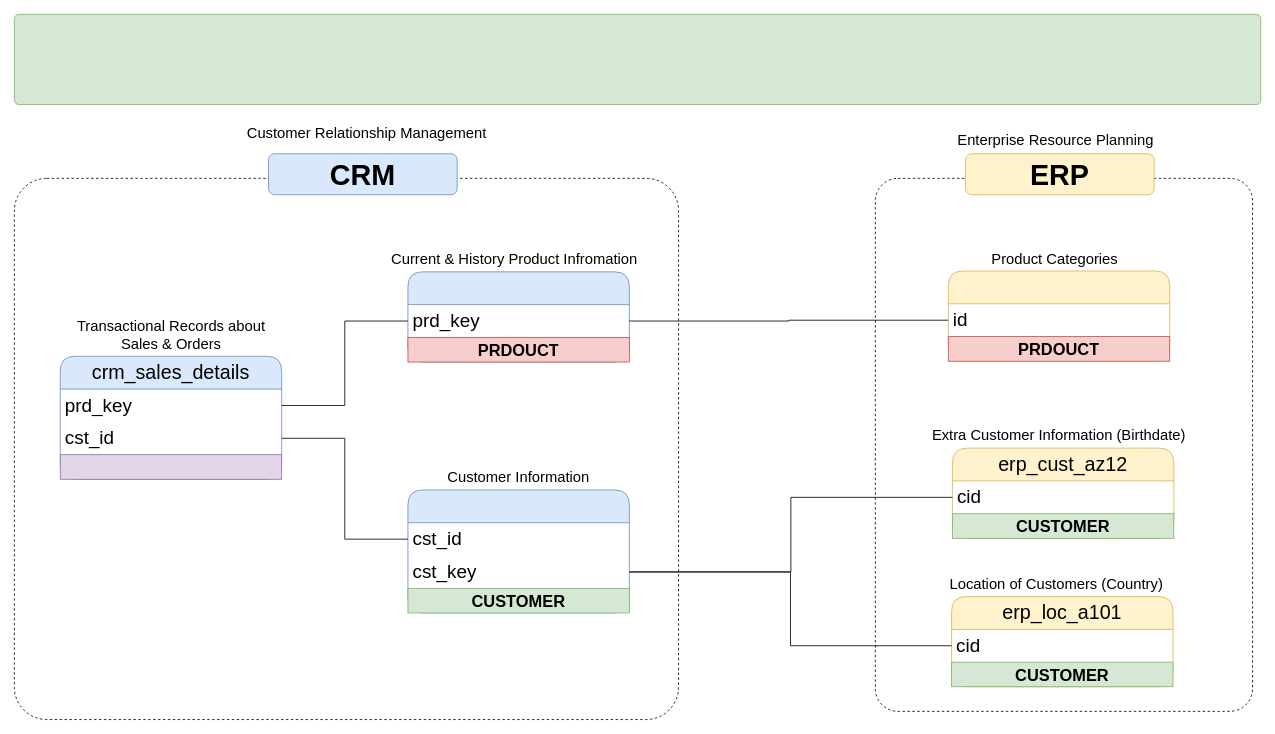
Some shapes in this 1275 by 734 pixel diagram are drawn without their labels. Here are the shapes that lost their labels. From the top down, the box of each, then its label:
(14, 14, 1261, 105): Data Integration: Connection Between Tables
(407, 271, 629, 362): crm_prd_info
(948, 270, 1170, 361): erp_px_cat_g1v2
(59, 454, 282, 479): SALES
(407, 489, 629, 613): crm_cust_info
